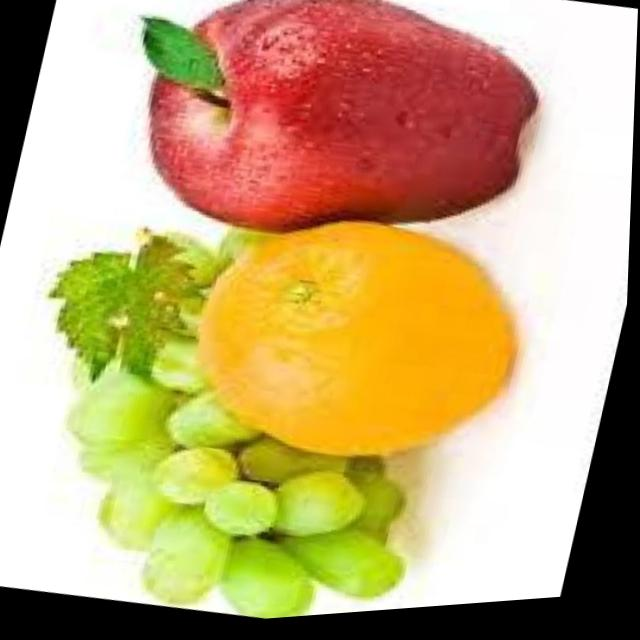Apple: (101, 0, 560, 301)
Orange: (164, 177, 552, 512)
